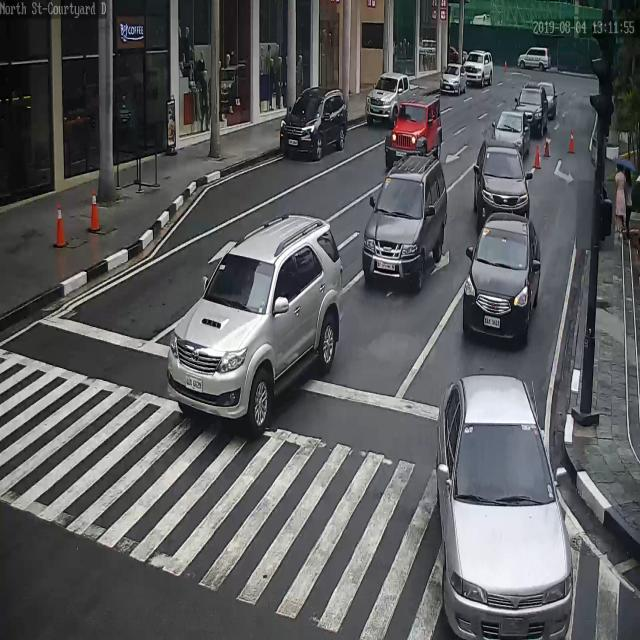car: (164, 213, 342, 426), (440, 377, 575, 635), (362, 157, 448, 291), (463, 211, 540, 346), (279, 85, 350, 161), (472, 142, 529, 222), (366, 74, 420, 124), (492, 109, 531, 158), (514, 84, 548, 136), (466, 48, 495, 85), (440, 63, 470, 94), (537, 81, 557, 120), (518, 48, 551, 70)
tricycle: (385, 96, 442, 166)
